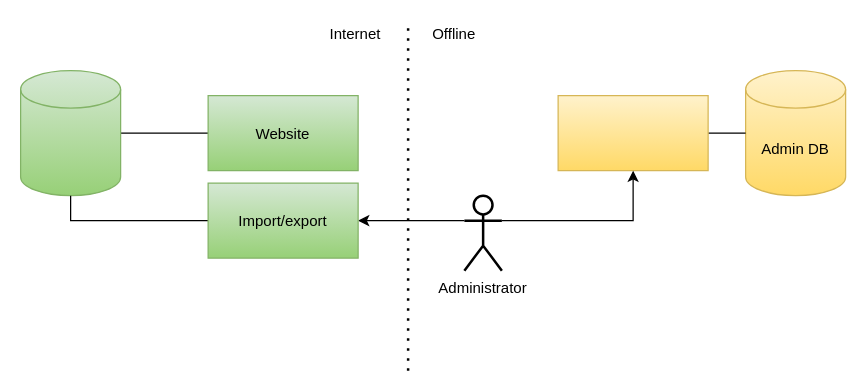
Image size: 866x391. Some labels were removed from this diagram. The box of each missing label's shape, as (x1, y1, x2, y2) in pixels:
App: (557, 94, 708, 171)
Web DB: (19, 69, 121, 196)
